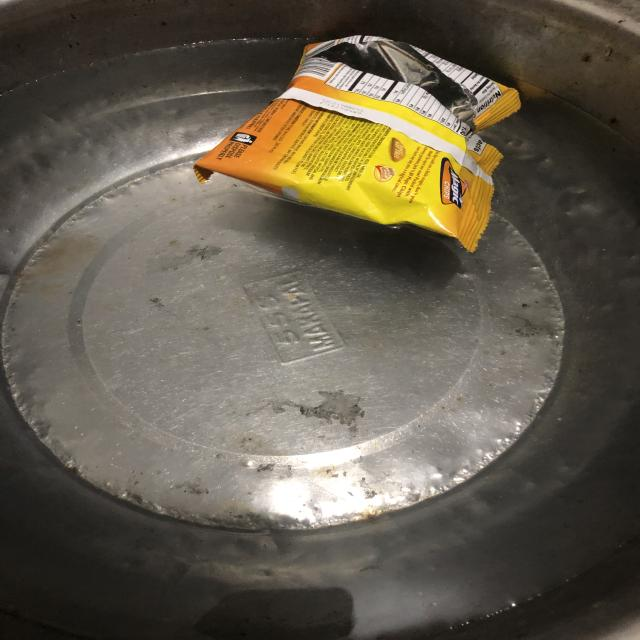Plastic Wrapper: (194, 35, 519, 251)
